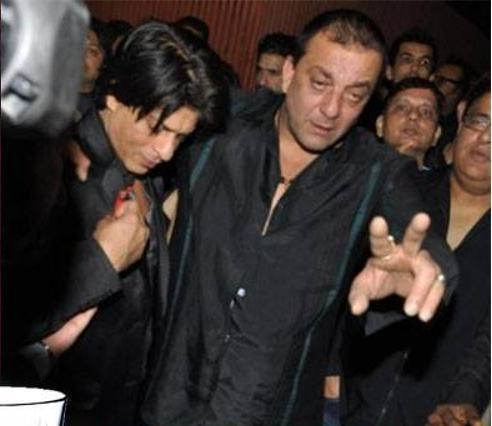Drunk: (294, 41, 374, 151), (117, 91, 195, 175)
